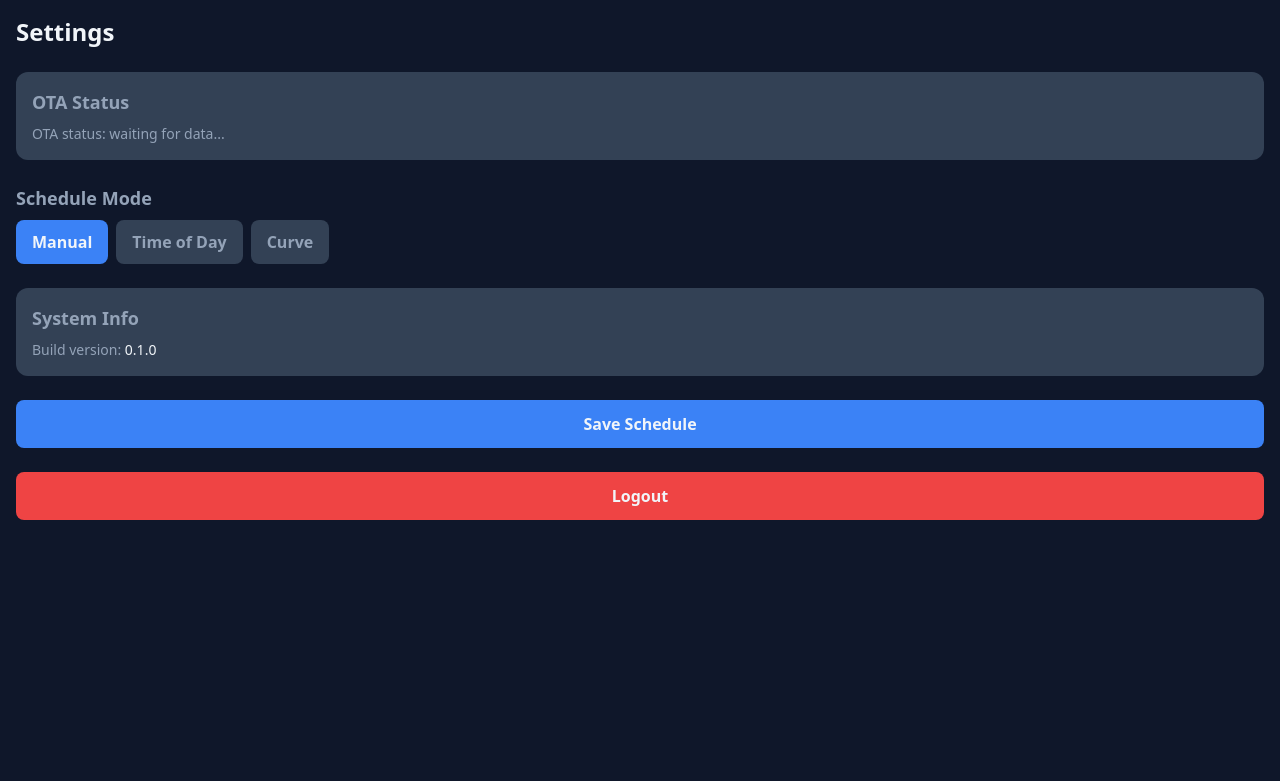
Test: SettingsScreen › add window button adds a new window row
What coordinates should you click on to do the following:
click the button with test id "mode-time_of_day"
I would click on:
 (179, 242)
Its box is [116, 220, 243, 264].
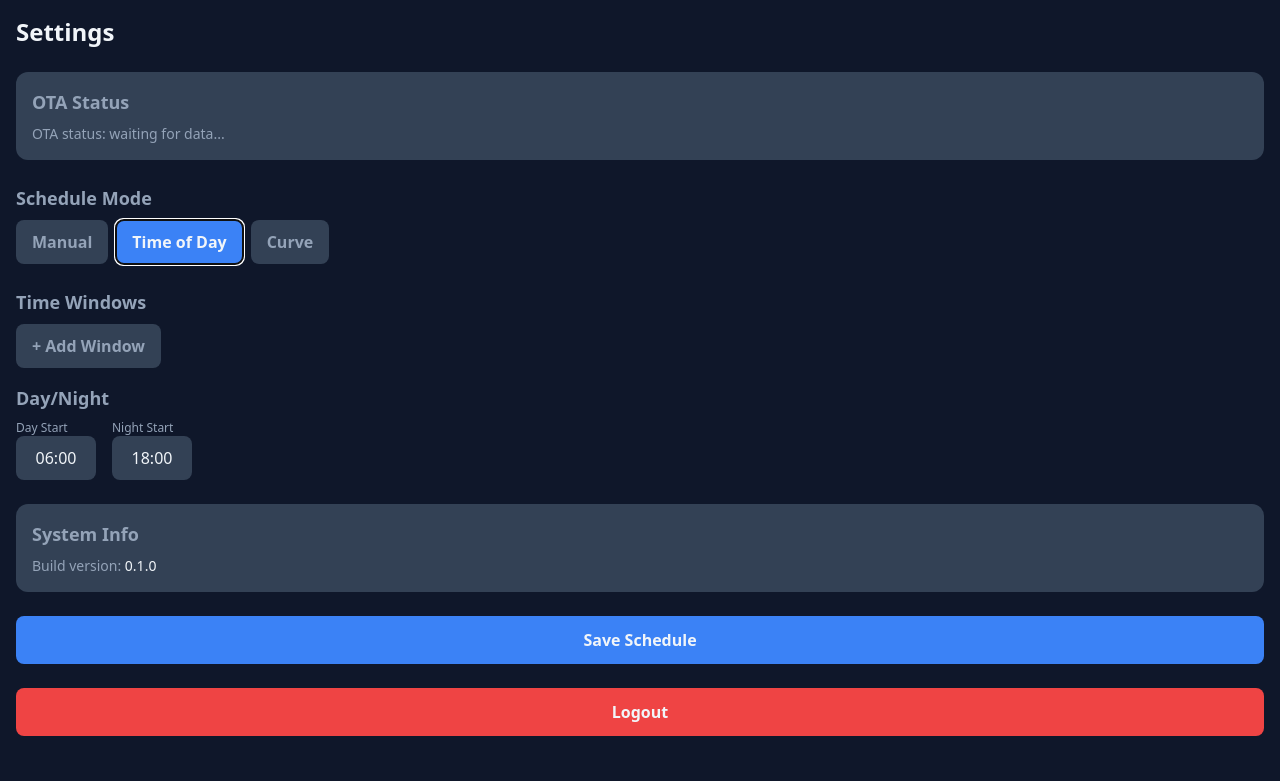
What coordinates should you click on to do the following:
click the button with test id "add-window-btn"
I would click on:
 (88, 346)
Its box is [16, 324, 161, 368].
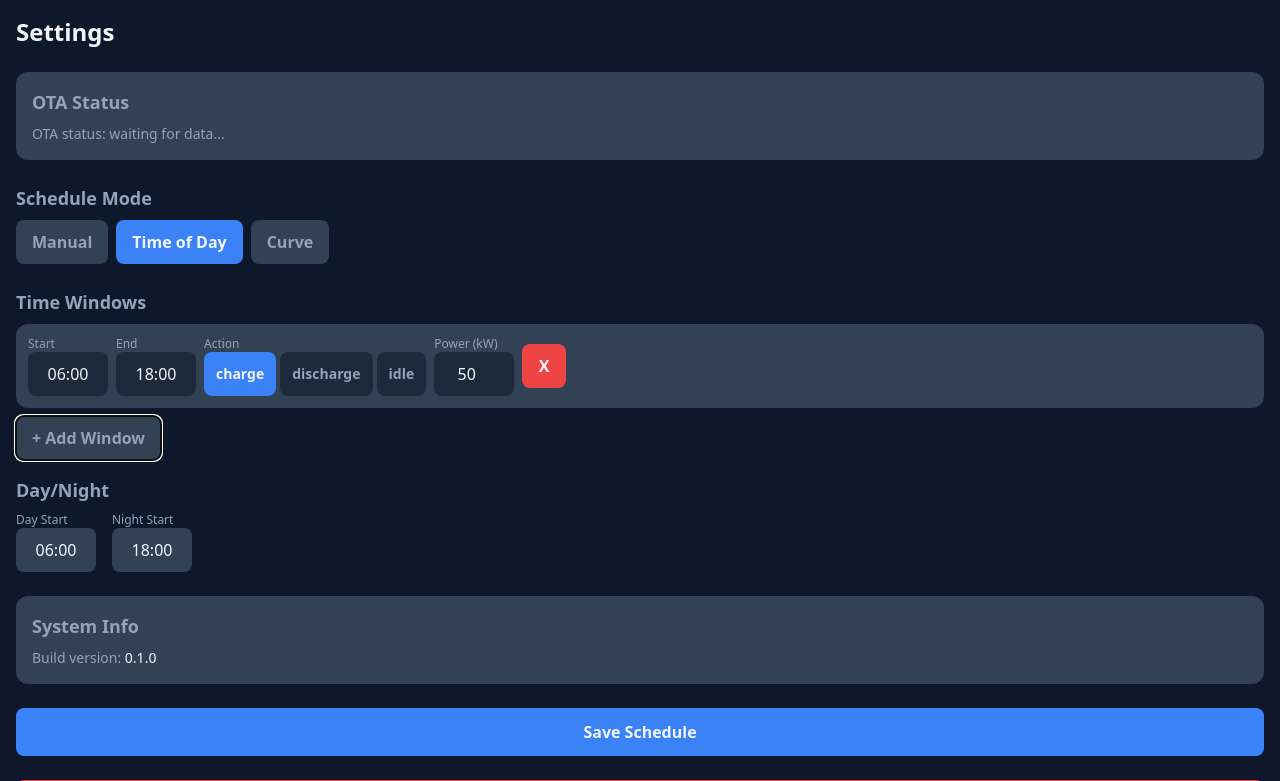
Expected: the element with test id "window-row-0" is shown, [16, 324, 1264, 408]
